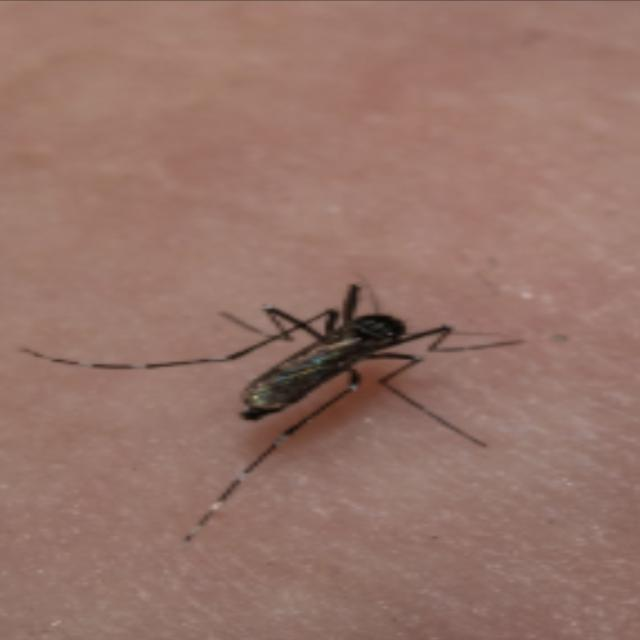albopictus: (34, 263, 529, 522)
